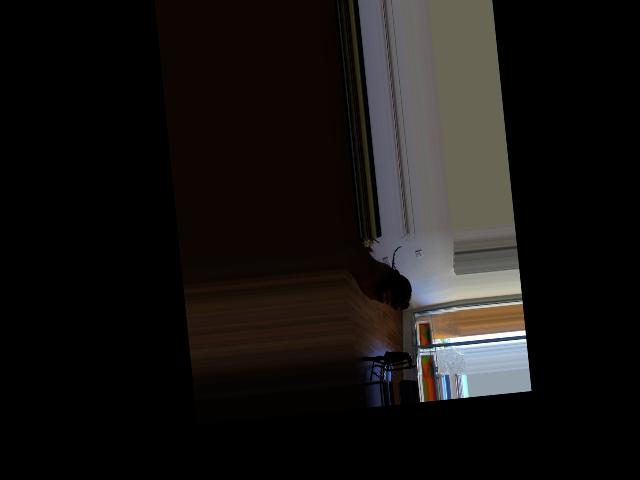beet: (385, 246, 413, 311)
